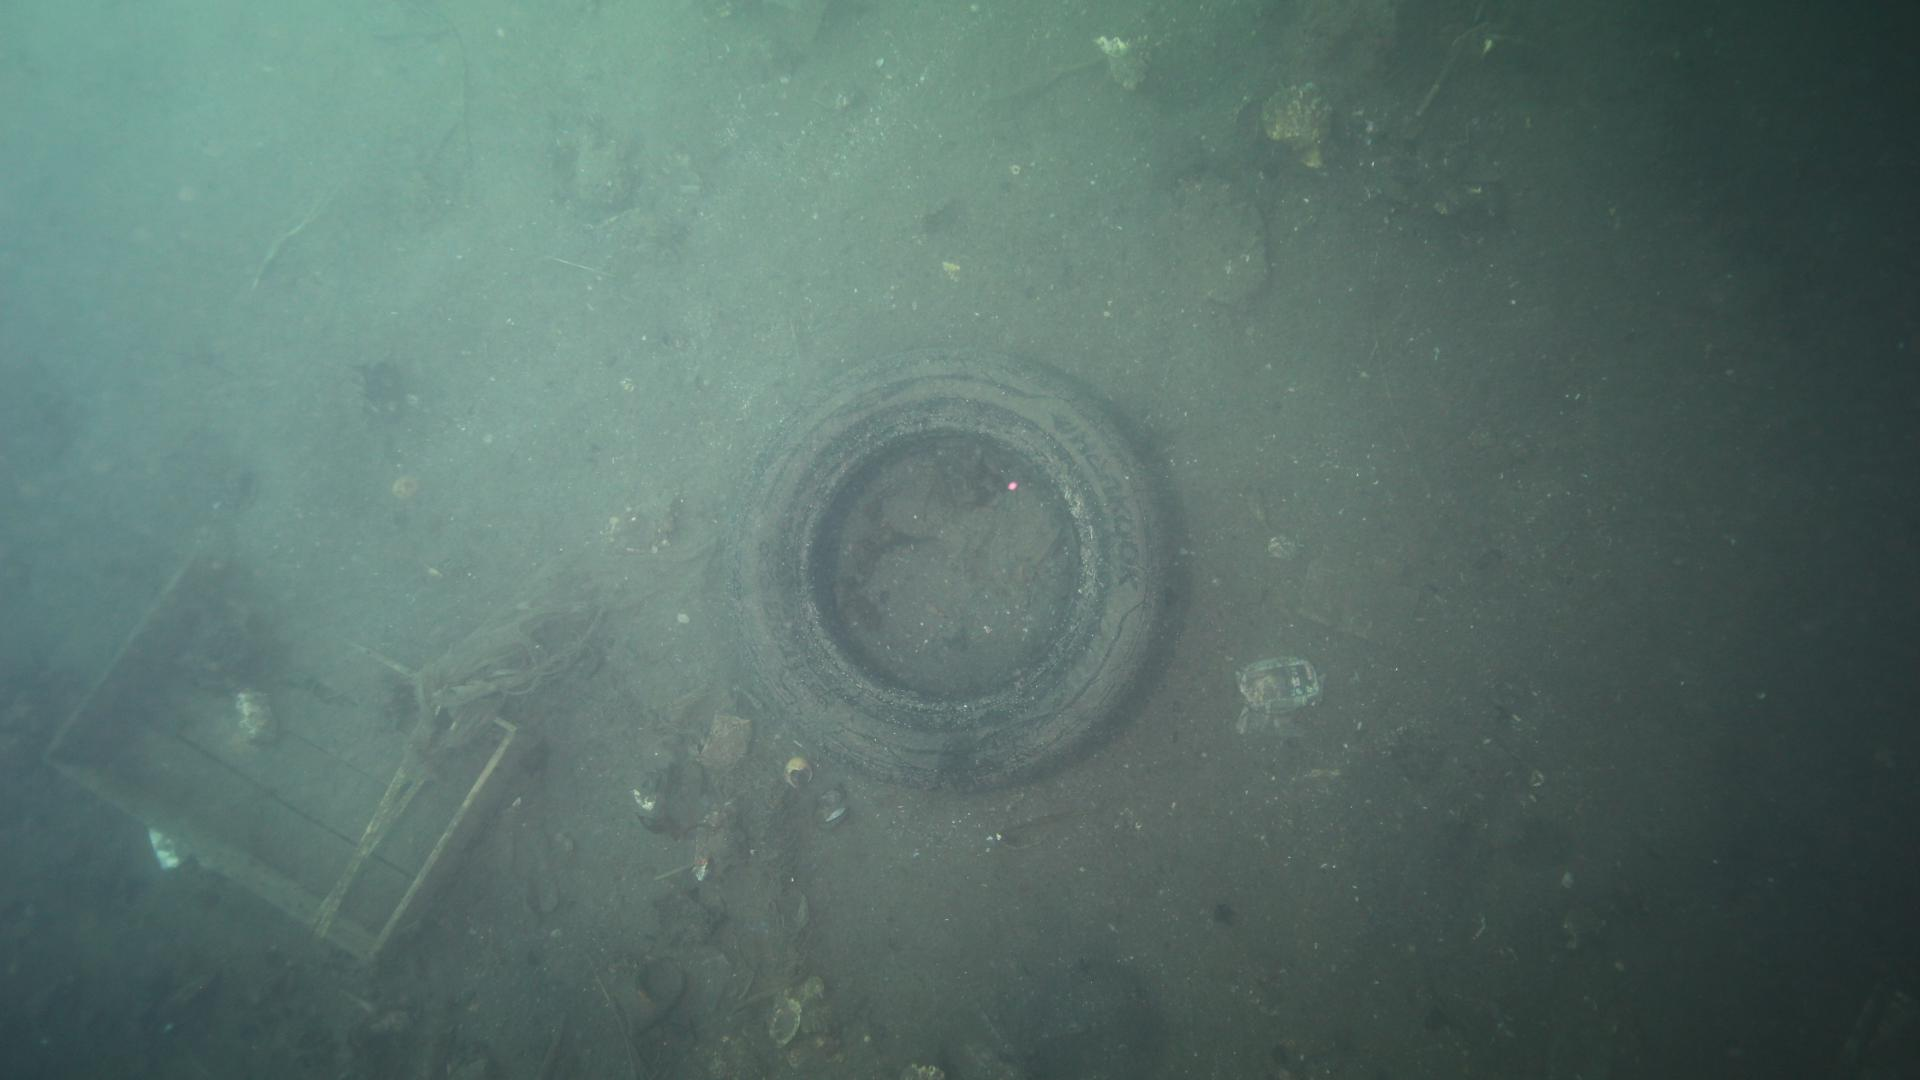tire: (727, 351, 1171, 785)
